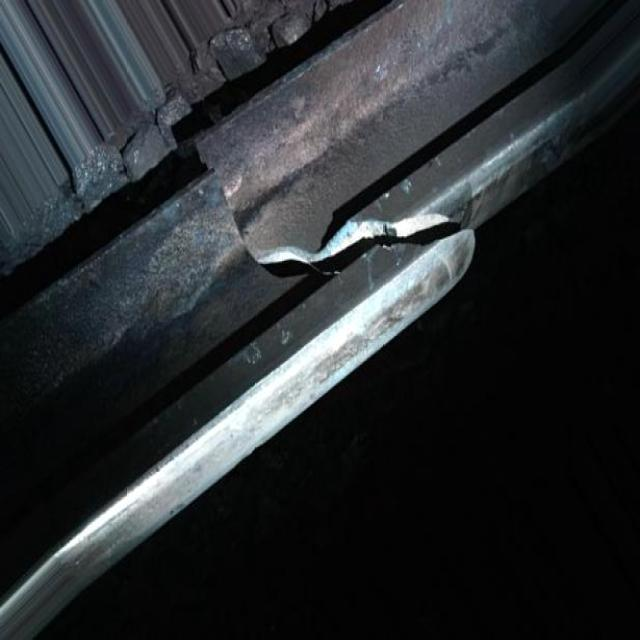crack: (119, 68, 513, 353)
